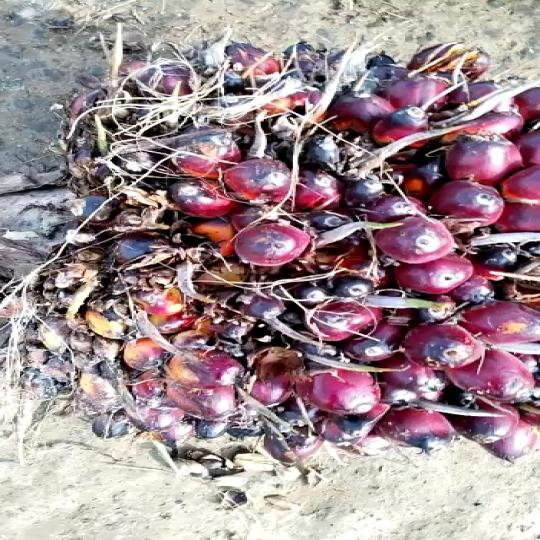masak: (0, 34, 540, 478)
